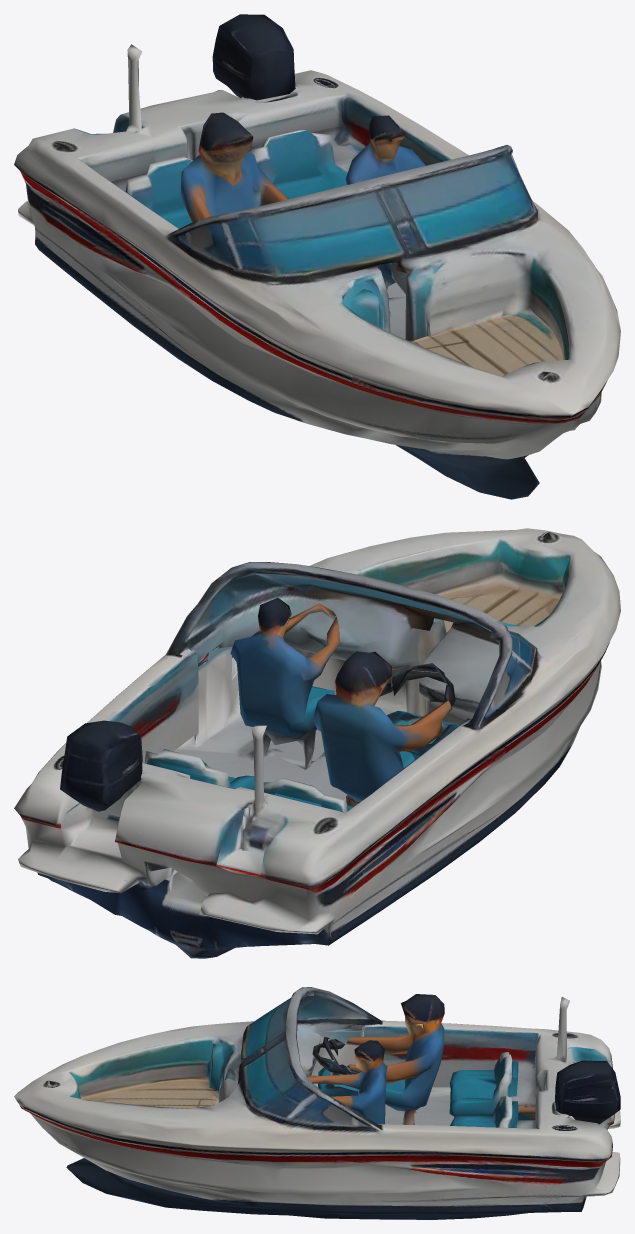
Rendered from speedboat.glb.
3 renders of one model, top to bottom at view 1: azimuth 30°, elevation 25°; view 2: azimuth 150°, elevation 25°; view 3: azimuth 270°, elevation 25°, orthographic. The views are drawn at different scales.
Parts seen in each view (by area): view 1: tripo_node_72882669-1a78-4aef-bd18-a47859808d34; view 2: tripo_node_72882669-1a78-4aef-bd18-a47859808d34; view 3: tripo_node_72882669-1a78-4aef-bd18-a47859808d34.
Part boxes in pixels (x1,y1,x2,y2): tripo_node_72882669-1a78-4aef-bd18-a47859808d34: (14,14,620,499); tripo_node_72882669-1a78-4aef-bd18-a47859808d34: (14,528,620,958); tripo_node_72882669-1a78-4aef-bd18-a47859808d34: (14,987,620,1219).
Bounding box in the file's own units: 0.4594 × 0.3622 × 1.
Materials: 1 (1 with a texture image).
